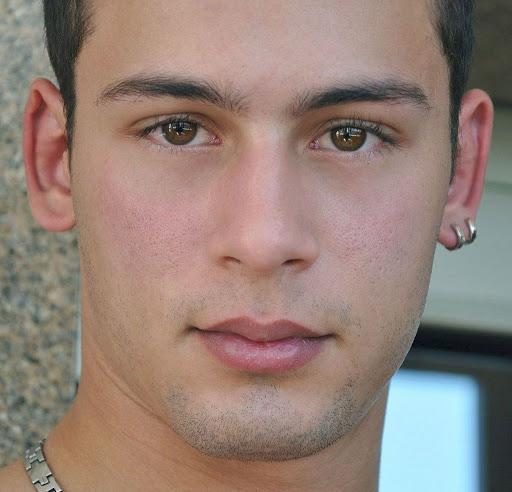left_eye: (304, 121, 397, 164)
left_lip_corner: (314, 325, 345, 350)
right_eye: (126, 113, 222, 154)
right_lip_corner: (179, 318, 215, 344)
